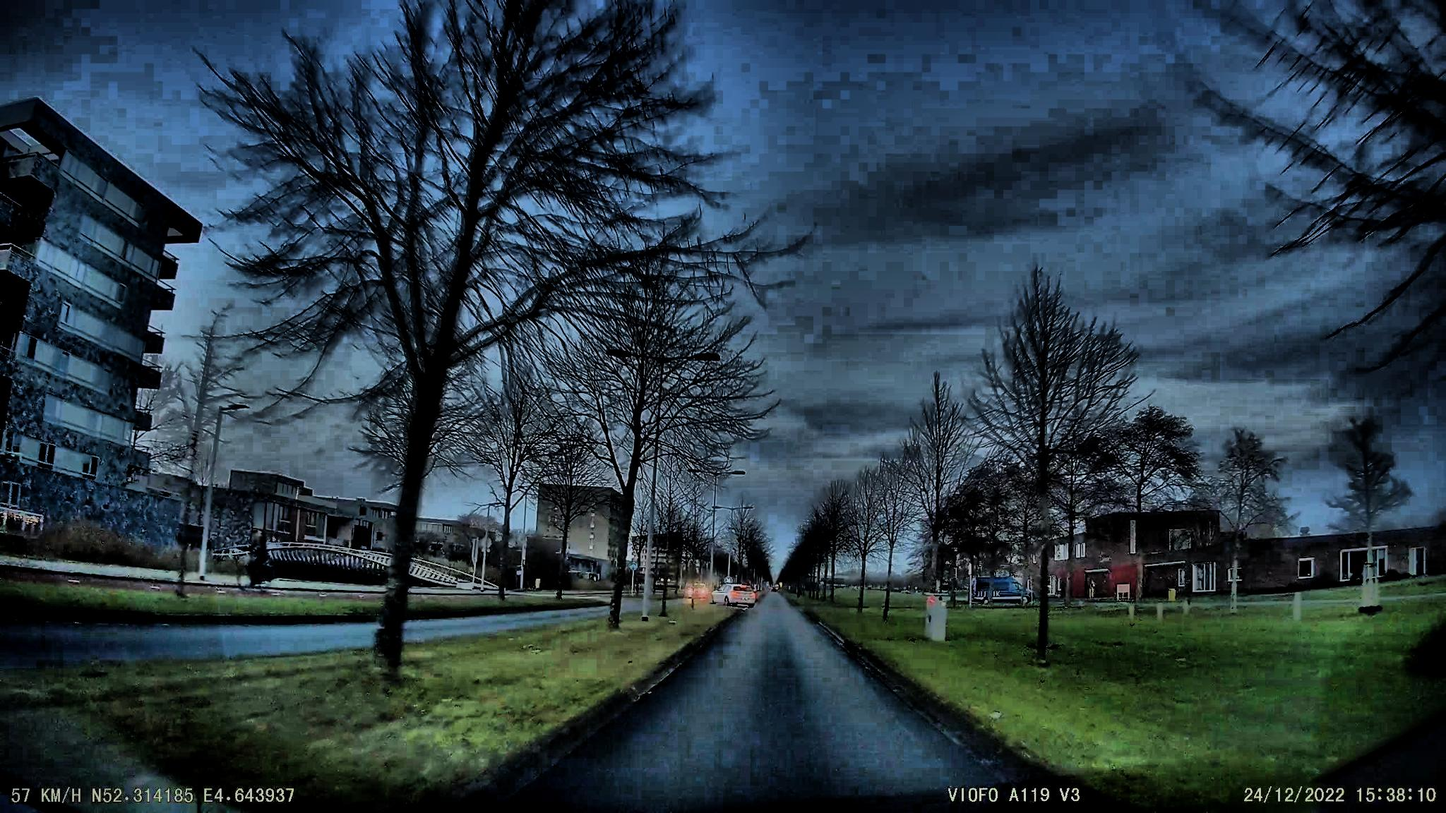Roads: (517, 611, 1053, 813)
